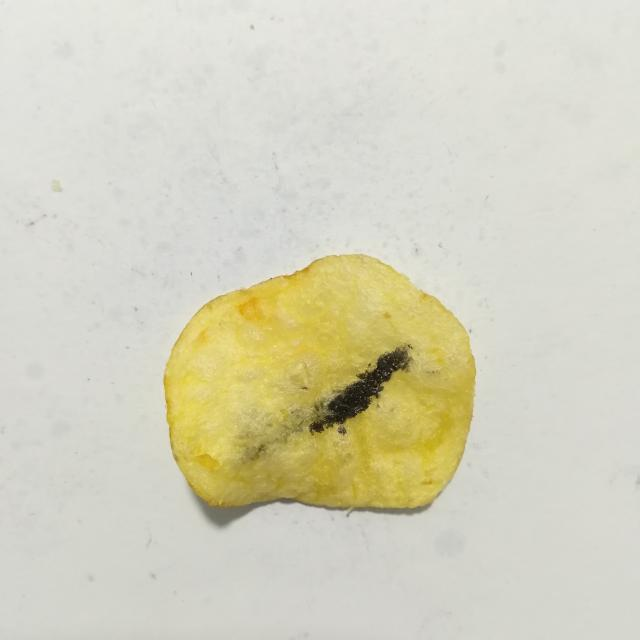chip: (164, 255, 475, 508)
damaged: (309, 346, 411, 433), (337, 426, 346, 435), (301, 386, 308, 390), (367, 363, 371, 367)
semi-damaged: (241, 387, 342, 459)
